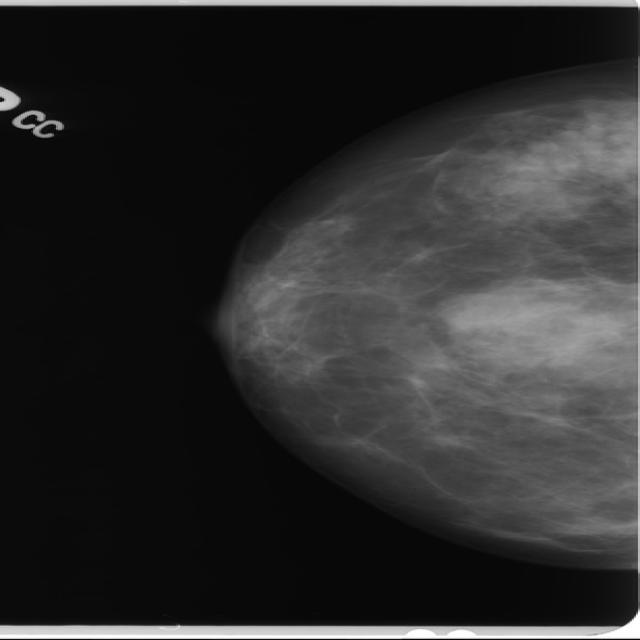tumour: (433, 283, 582, 329)
